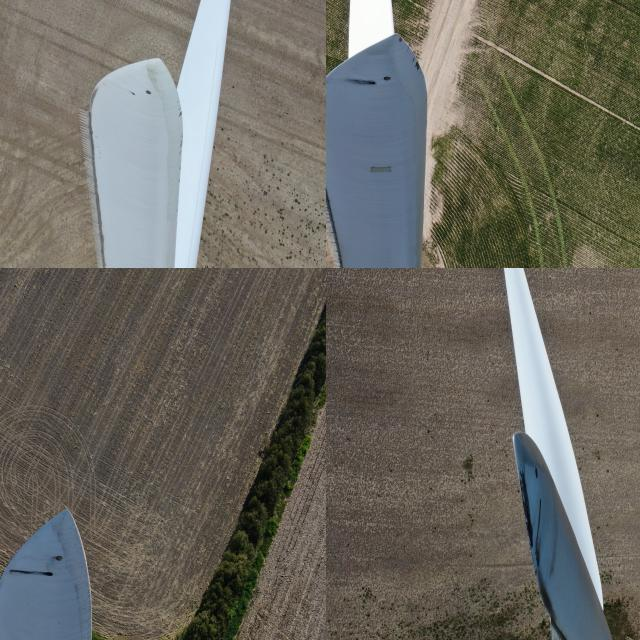damage: (502, 474, 544, 550), (4, 568, 54, 582), (334, 77, 376, 93), (176, 132, 186, 188), (174, 98, 182, 121), (130, 90, 136, 98)
